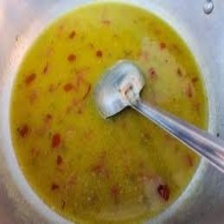dal: (4, 0, 216, 224)
